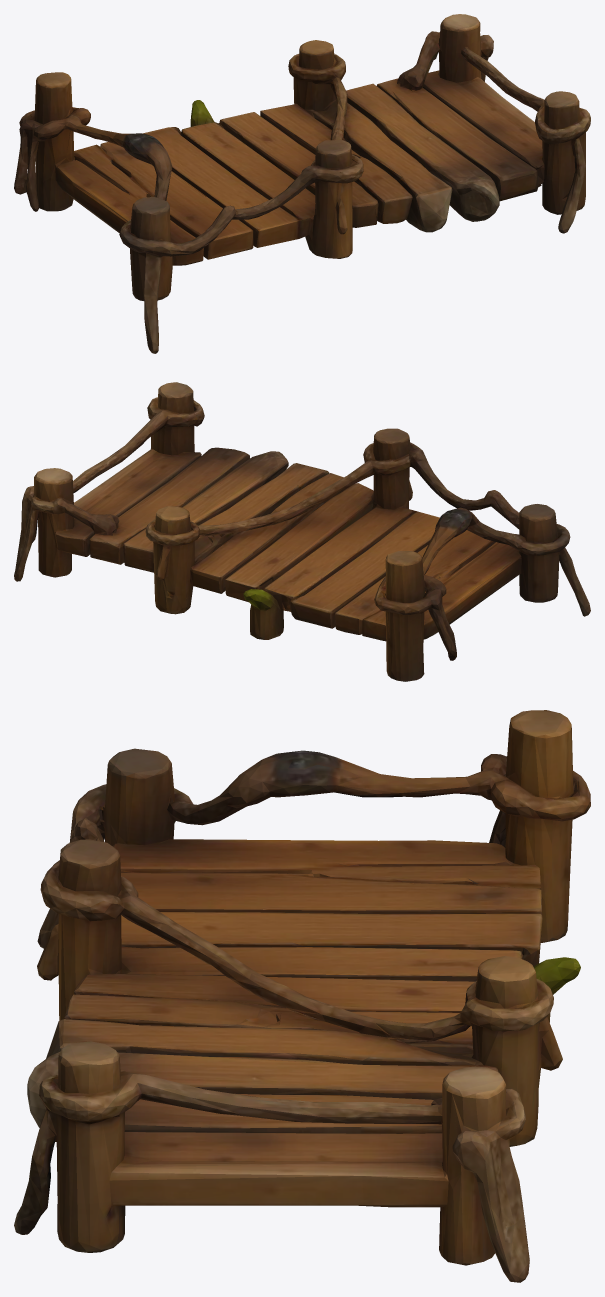
3 renders of one model, top to bottom at view 1: azimuth 30°, elevation 25°; view 2: azimuth 150°, elevation 25°; view 3: azimuth 270°, elevation 25°, orthographic. The views are drawn at different scales.
Visible parts, largest first — view 1: world; view 2: world; view 3: world.
Part boxes in pixels (box(x1,y1,x2,y2)): world: box(14, 14, 590, 353); world: box(14, 382, 590, 681); world: box(14, 710, 590, 1282).
Size of the model in its own units: 0.9986 by 0.3225 by 0.6321.
Materials: 1 (1 with a texture image).
